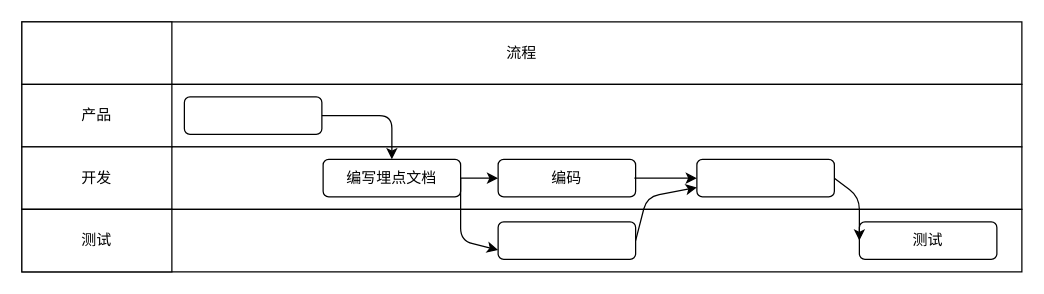
Image size: 1044x294. Some labels were removed from this diagram. The shapes that lost their labels are listed below. From the top down, each one's centre as x and y in pixels, then its label:
the point at 96,52: 人员
the point at 252,115: 产品埋点需求
the point at 765,177: 自测
the point at 566,240: 测试用例-校验规则
